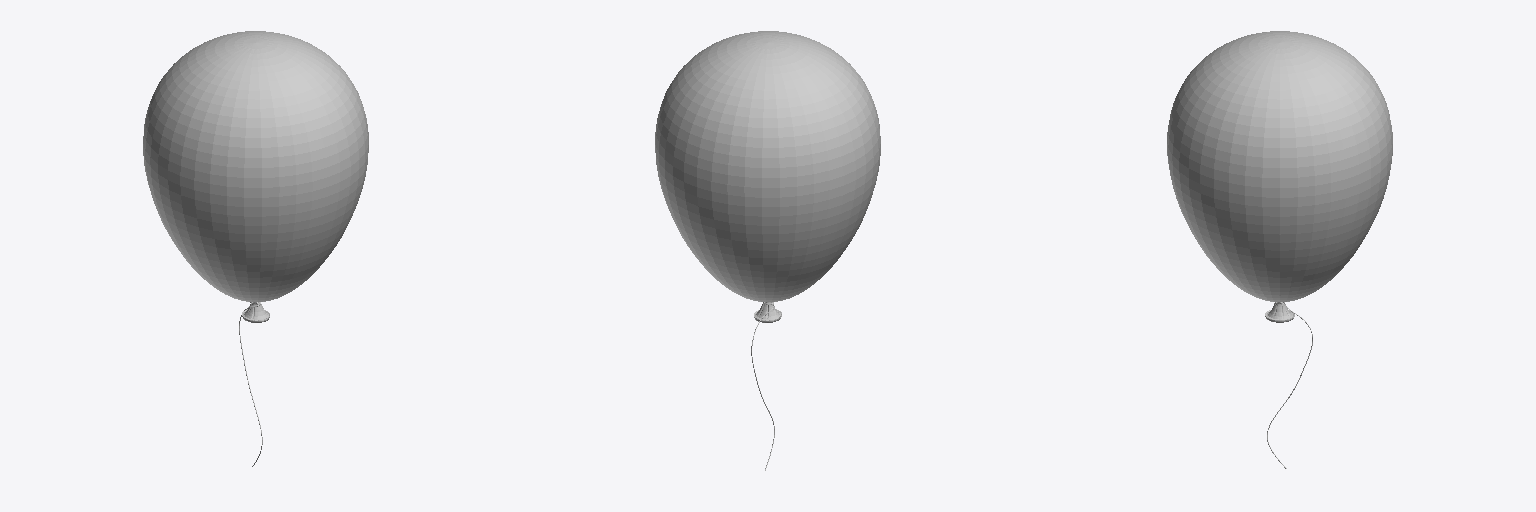
Rendered from balloon.obj.
3 views of the same model, side by side, from view 1: azimuth 30°, elevation 25°; view 2: azimuth 150°, elevation 25°; view 3: azimuth 270°, elevation 25° (orthographic).
Visible parts, largest first — view 1: Ballon Balloon; view 2: Ballon Balloon; view 3: Ballon Balloon.
Boxes of the visible parts, x1,y1,x2,y2 form: Ballon Balloon: [143, 31, 368, 322]; Ballon Balloon: [655, 31, 880, 322]; Ballon Balloon: [1167, 31, 1392, 322].
Size of the model in its own units: 0.8871 by 1.85 by 0.8871.